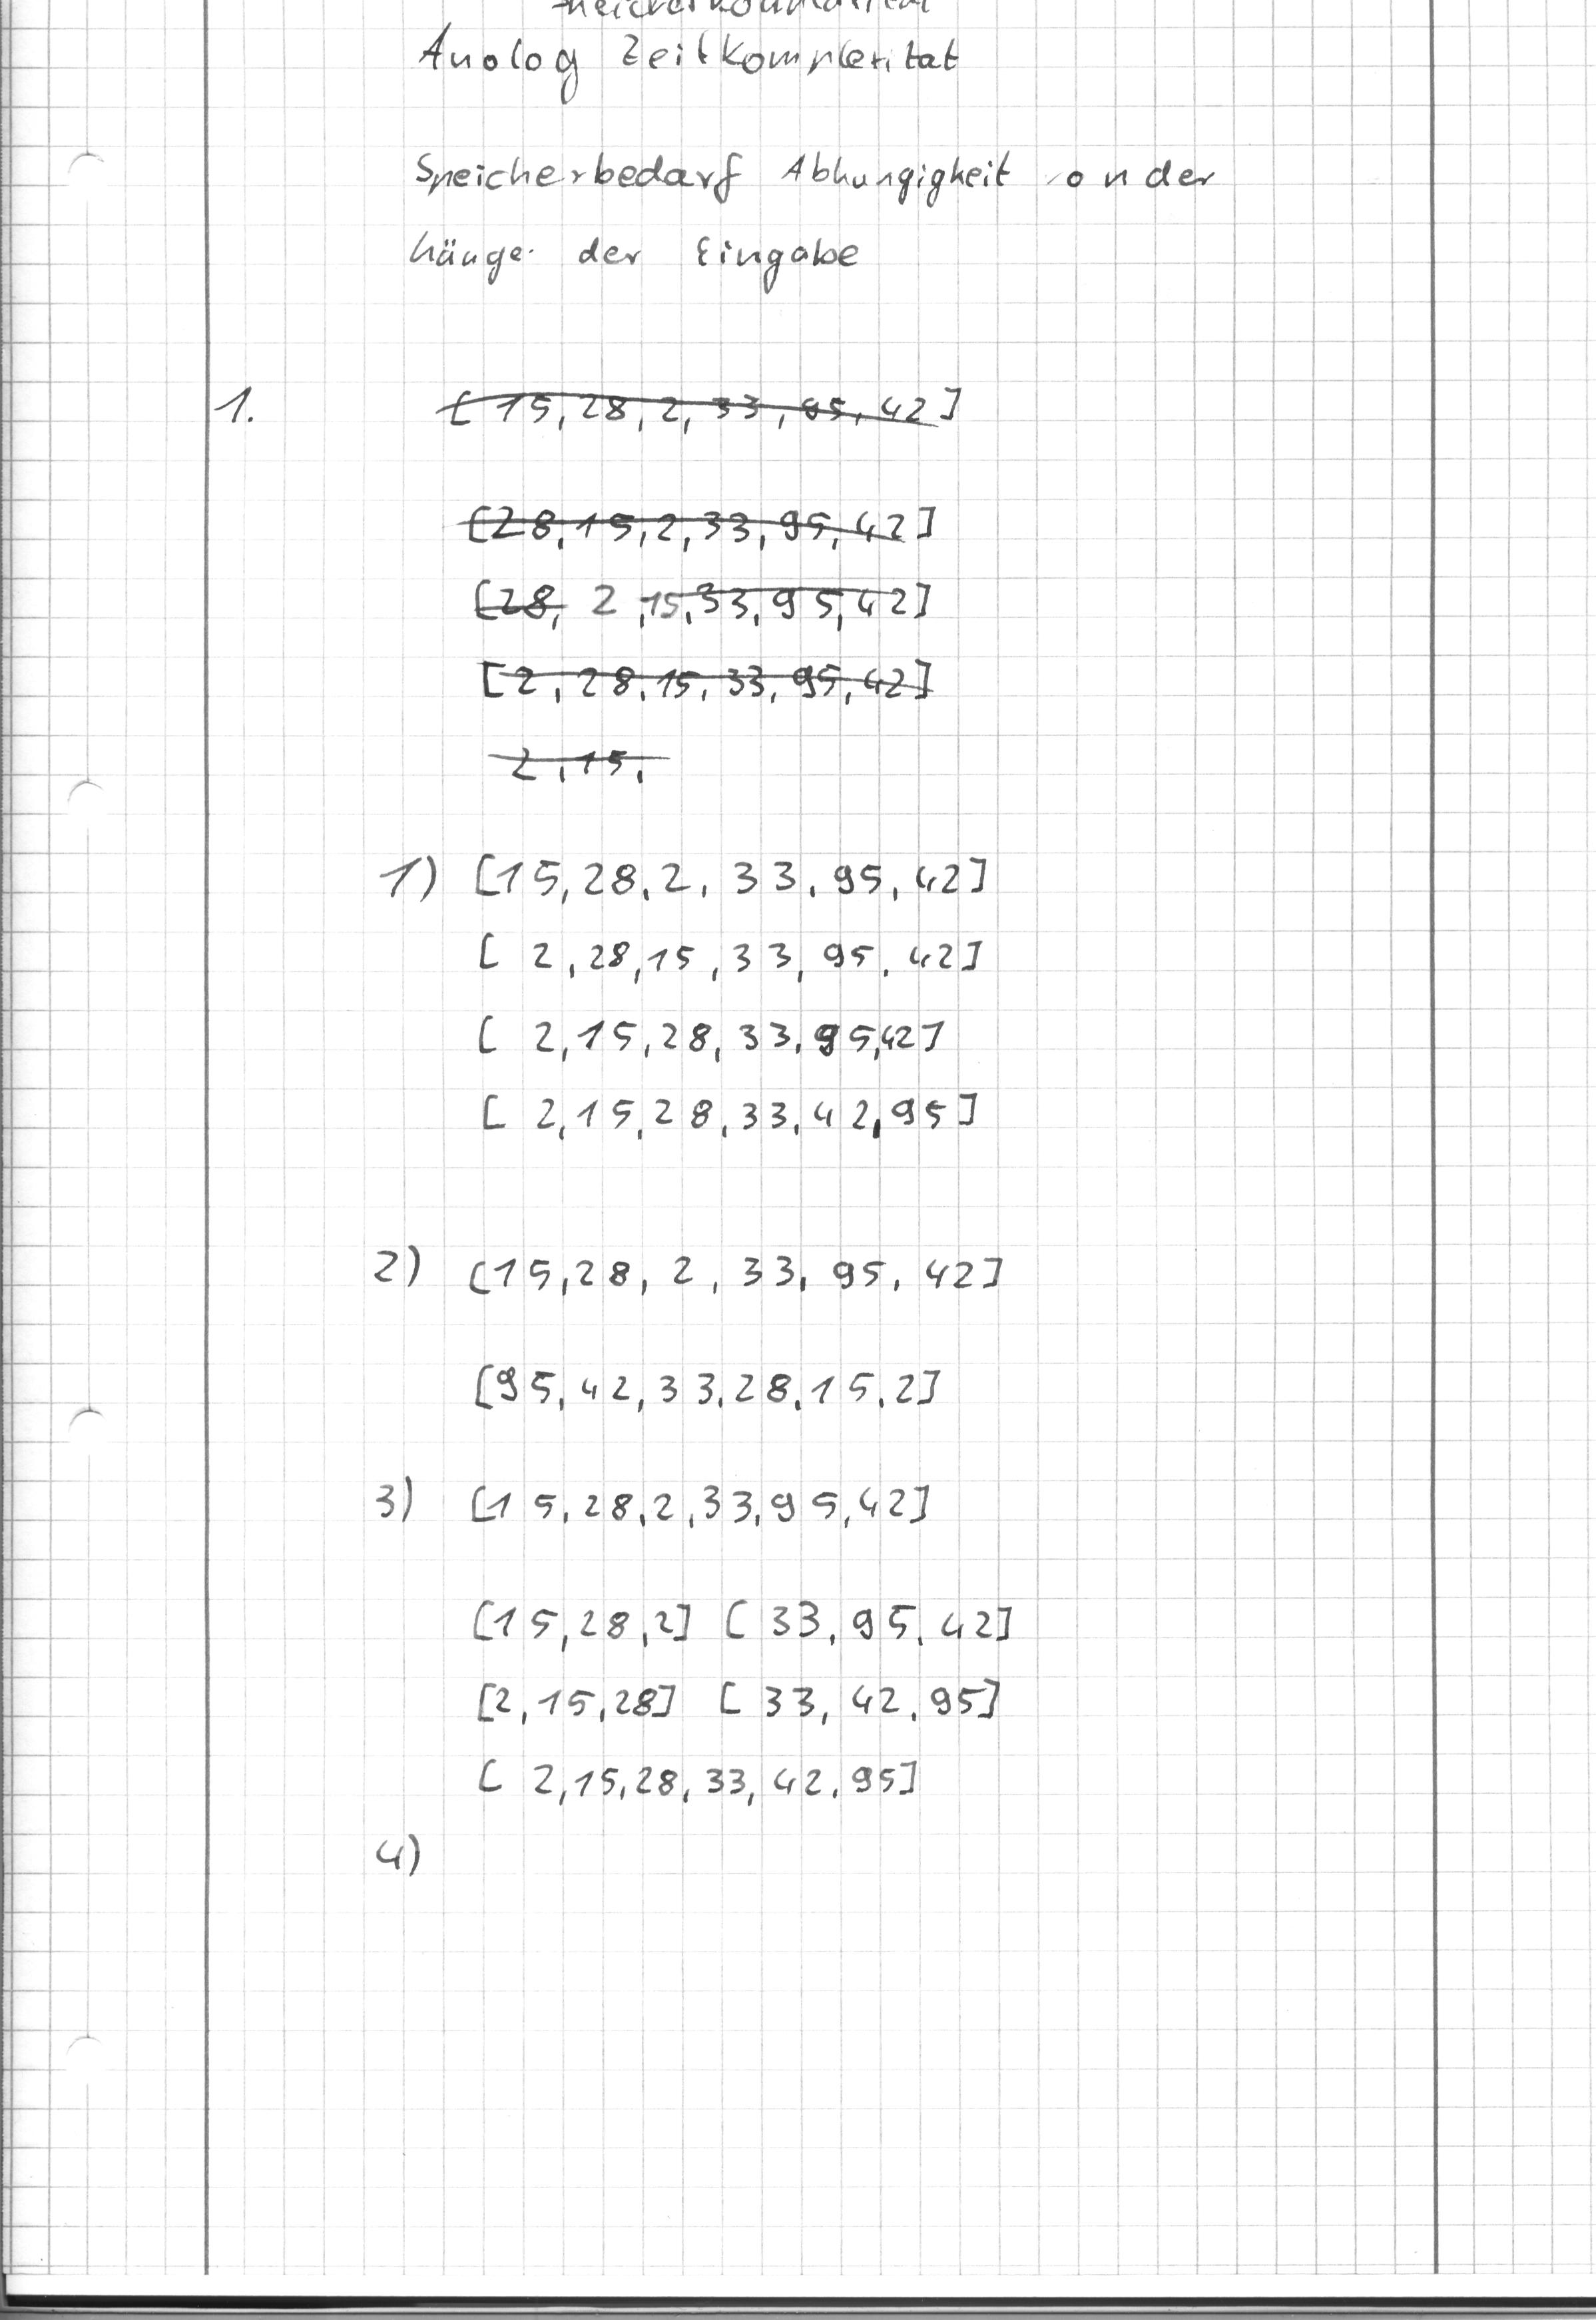word: (427, 373, 989, 799), (363, 1461, 1035, 1816), (366, 835, 1007, 1165), (398, 136, 1222, 306), (358, 1235, 1018, 1443), (407, 19, 975, 112), (305, 1777, 497, 1932), (176, 356, 328, 472)
